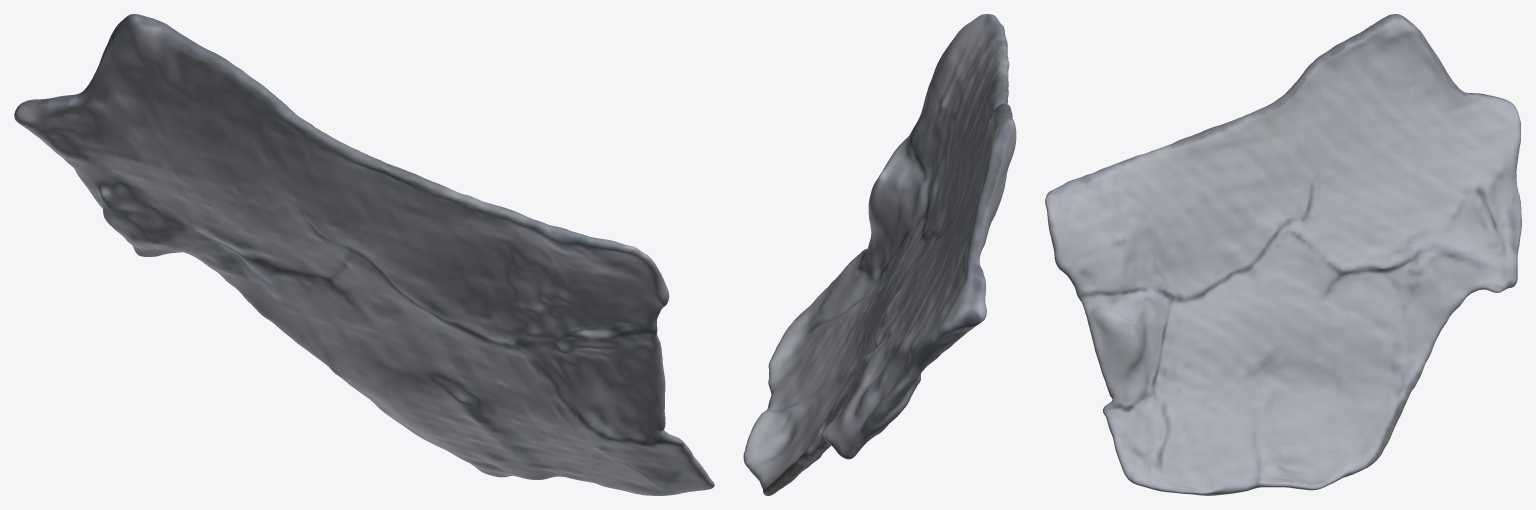
The model's file is 4e883c3656c2_ice_crack_white__3d.fbx.
The picture shows the model from 3 angles, left to right: view 1: azimuth 30°, elevation 25°; view 2: azimuth 150°, elevation 25°; view 3: azimuth 270°, elevation 25°; orthographic projection. The views are drawn at different scales.
Parts seen in each view (by area): view 1: high_poly; view 2: high_poly; view 3: high_poly.
Part boxes in pixels (x1,y1,x2,y2): high_poly: [14, 14, 714, 495]; high_poly: [743, 14, 1016, 495]; high_poly: [1045, 14, 1521, 495].
Bounding box in the file's own units: 80.34 × 84.58 × 100.
